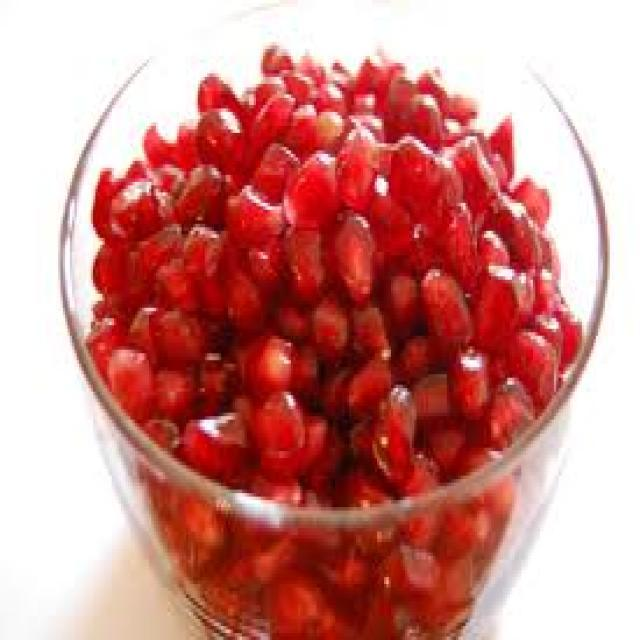Pomegranate: (81, 31, 586, 640)
